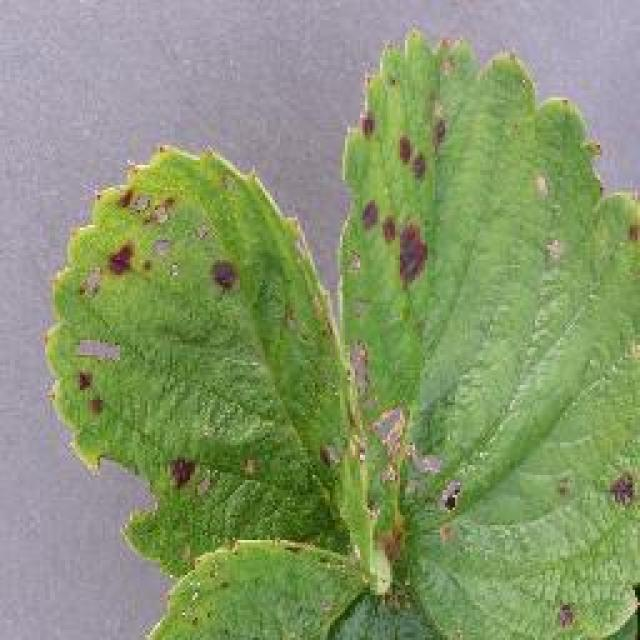Strawberry leaf scorch: (120, 185, 520, 318)
